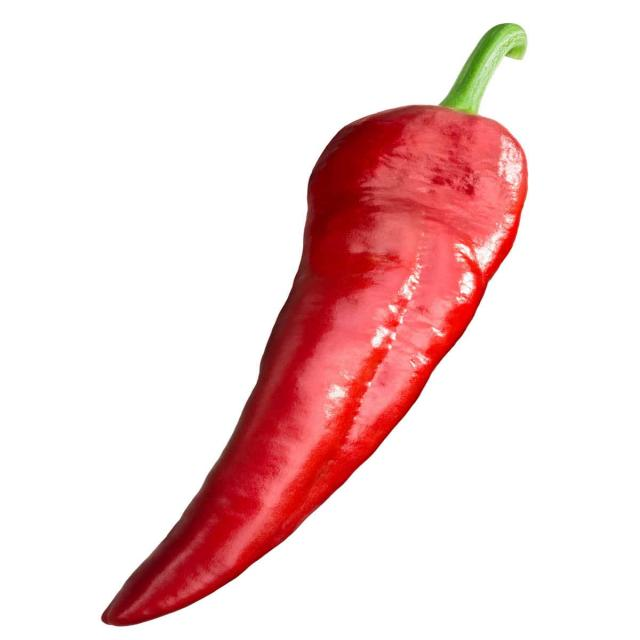red chili: (101, 22, 528, 627)
